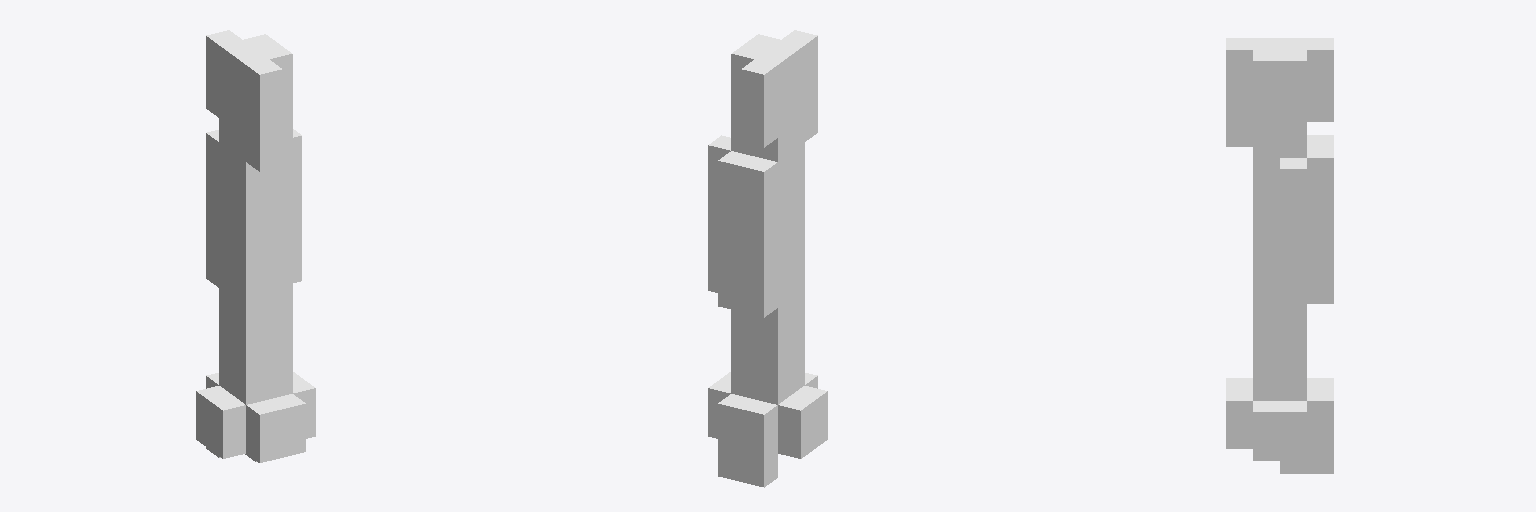
Rendered from Brunette-1.obj.
3 renders of one model, left to right at view 1: azimuth 30°, elevation 25°; view 2: azimuth 150°, elevation 25°; view 3: azimuth 270°, elevation 25°, orthographic.
Parts seen in each view (by area): view 1: object 1; view 2: object 1; view 3: object 1.
Part boxes in pixels (x1,y1,x2,y2): object 1: (196, 30, 315, 462); object 1: (708, 30, 827, 487); object 1: (1226, 38, 1333, 473).
Bounding box in the file's own units: 0.4 × 1.7 × 0.4.